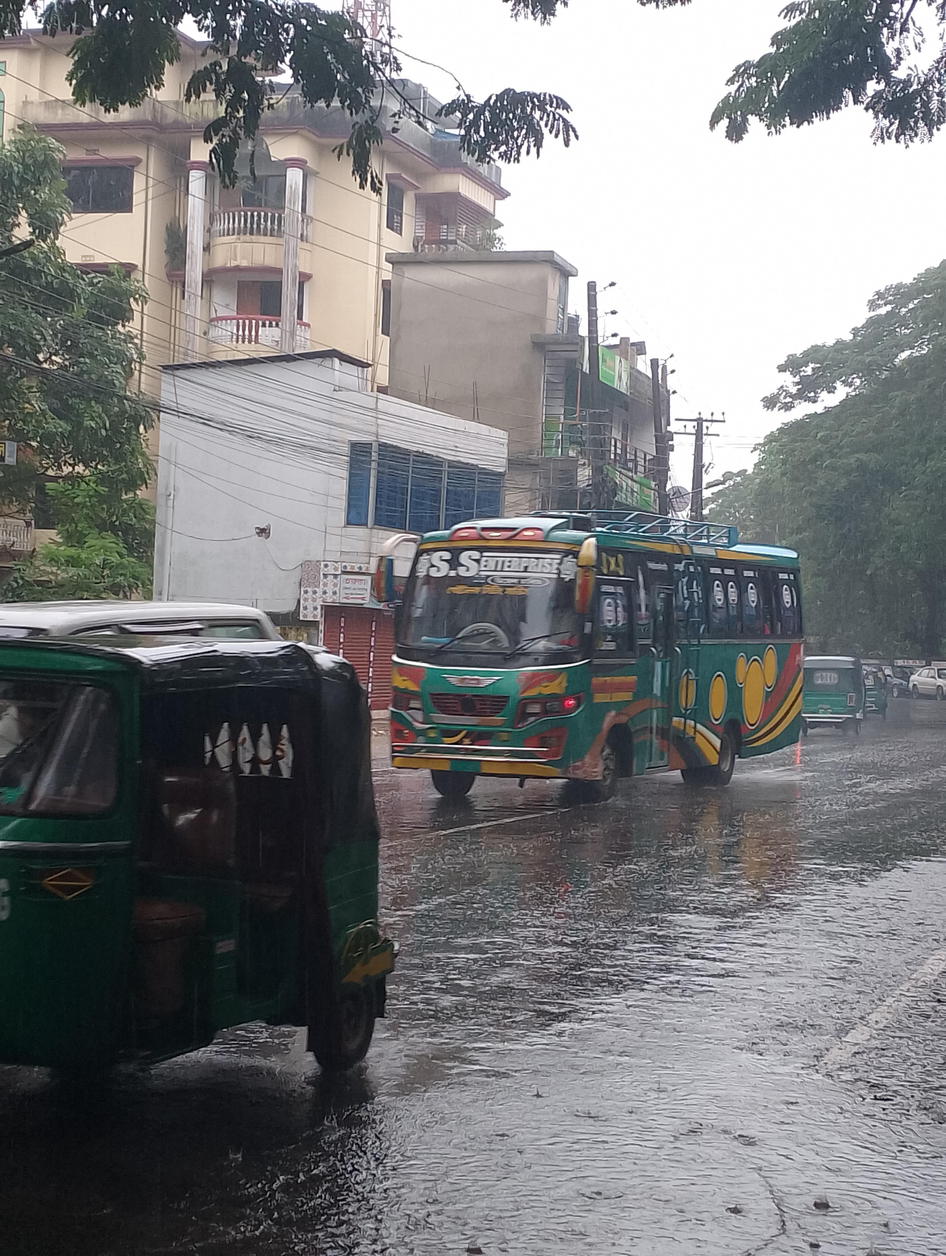Bus: (366, 484, 820, 820)
